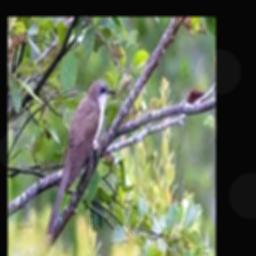Cuckoo: (46, 80, 115, 236)
